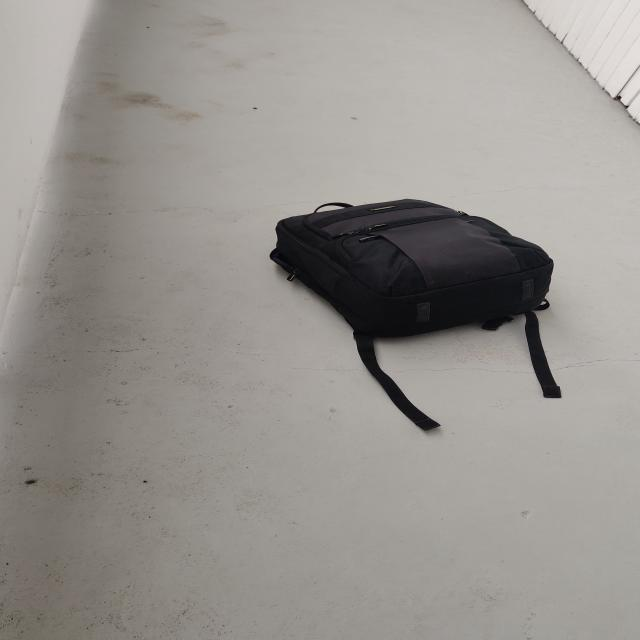backpack: (257, 192, 566, 348)
